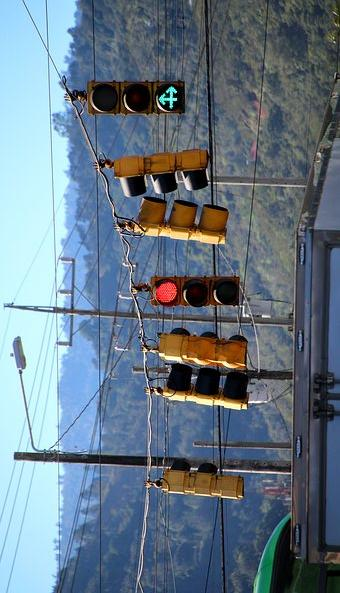trafic: (152, 274, 239, 308)
